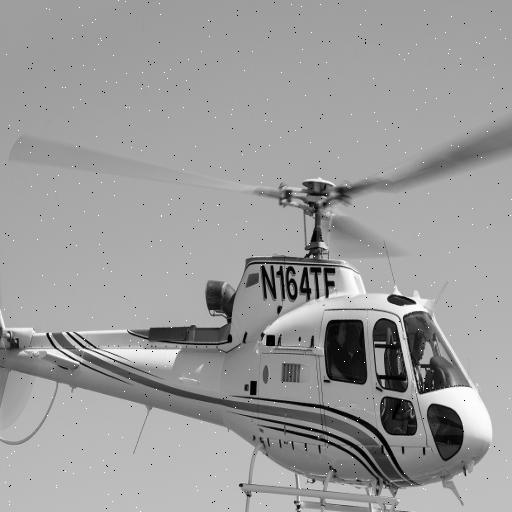helicopter: (1, 136, 512, 512)
